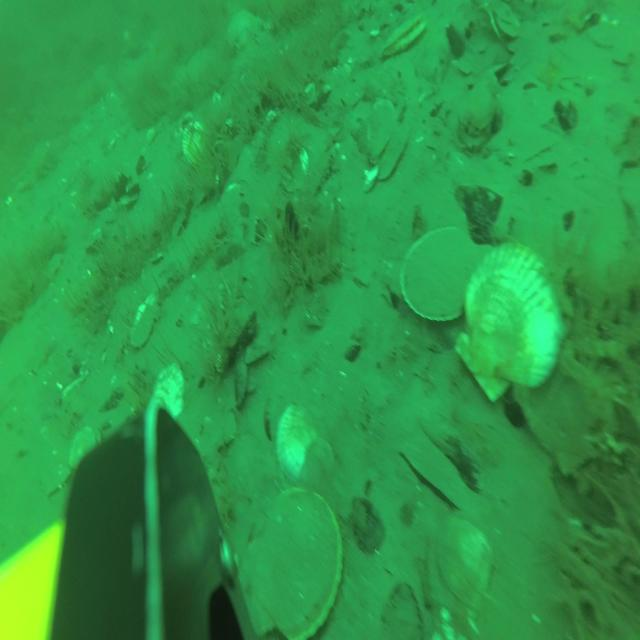scallop: (454, 243, 562, 401), (246, 489, 341, 636), (397, 224, 480, 319), (436, 512, 492, 611), (276, 396, 316, 478), (379, 14, 426, 58), (375, 121, 409, 181), (367, 100, 396, 158), (132, 287, 160, 347), (156, 363, 186, 419), (304, 441, 334, 486), (70, 428, 98, 469), (184, 118, 208, 162)
starfish: (226, 10, 262, 47)
